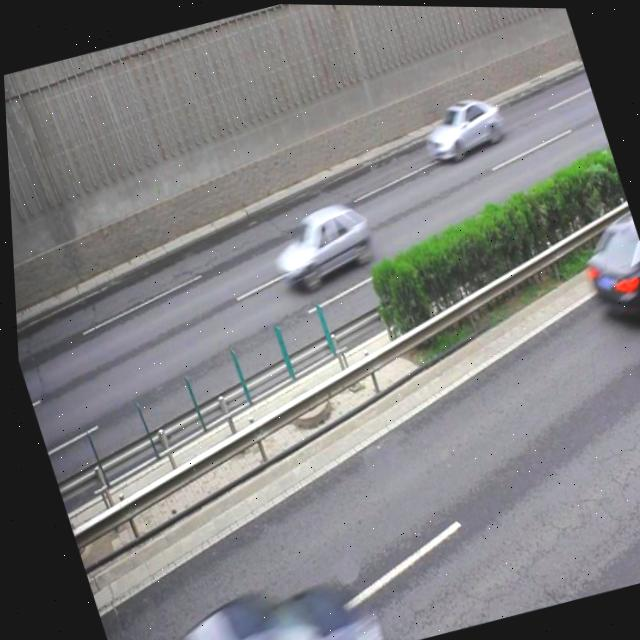car: (137, 560, 365, 640), (257, 193, 379, 296), (566, 208, 640, 328), (411, 86, 509, 165)
